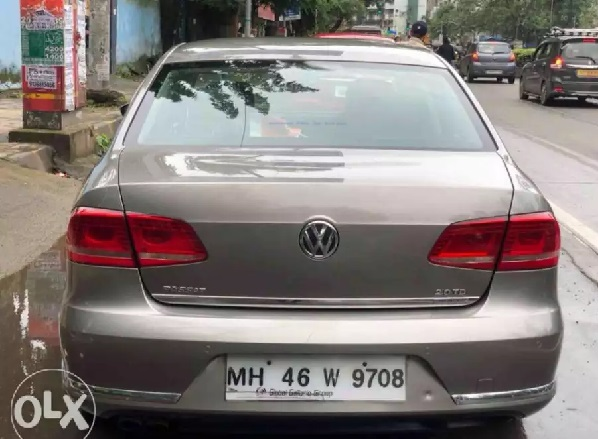licenseplate: (225, 350, 409, 404)
